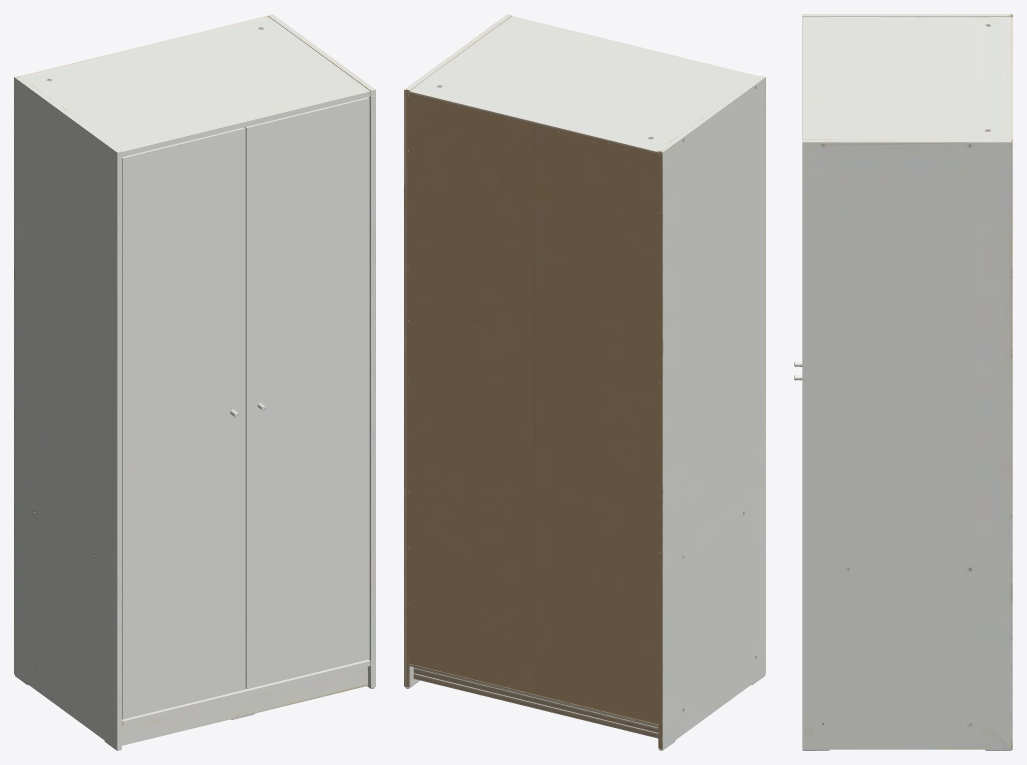
3 renders of one model, left to right at view 1: azimuth 30°, elevation 25°; view 2: azimuth 150°, elevation 25°; view 3: azimuth 270°, elevation 25°, orthographic.
Parts seen in each view (by area): view 1: ASY_ART_90586803_S01_NV01, ASY_LPT01_90586803_S01_NV01, ASY_LPT02_90586803_S01_NV01; view 2: ASY_ART_90586803_S01_NV01; view 3: ASY_ART_90586803_S01_NV01.
Part boxes in pixels (bbox=[...]): ASY_ART_90586803_S01_NV01: bbox=[14, 14, 375, 750]; ASY_LPT01_90586803_S01_NV01: bbox=[244, 97, 369, 689]; ASY_LPT02_90586803_S01_NV01: bbox=[122, 127, 245, 719]; ASY_ART_90586803_S01_NV01: bbox=[404, 14, 765, 750]; ASY_ART_90586803_S01_NV01: bbox=[802, 14, 1012, 750].
Bounding box in the file's own units: 0.7948 × 1.76 × 0.5702.
3 materials, 3 textured.
